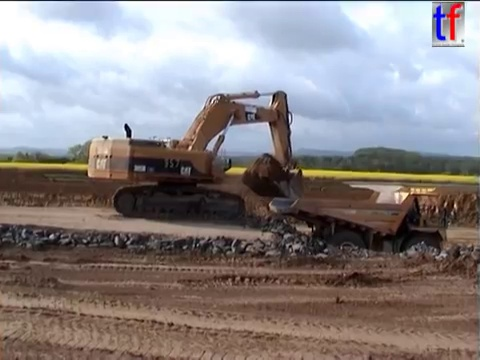excavator: (85, 88, 305, 224)
truck: (266, 184, 459, 271)
